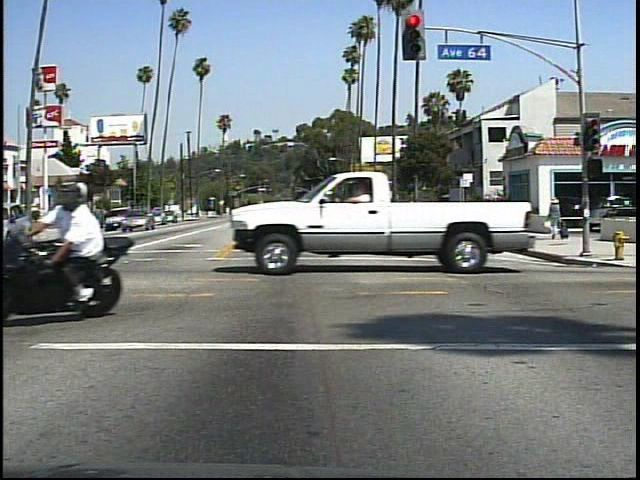person: (43, 177, 124, 311), (542, 194, 567, 221)
